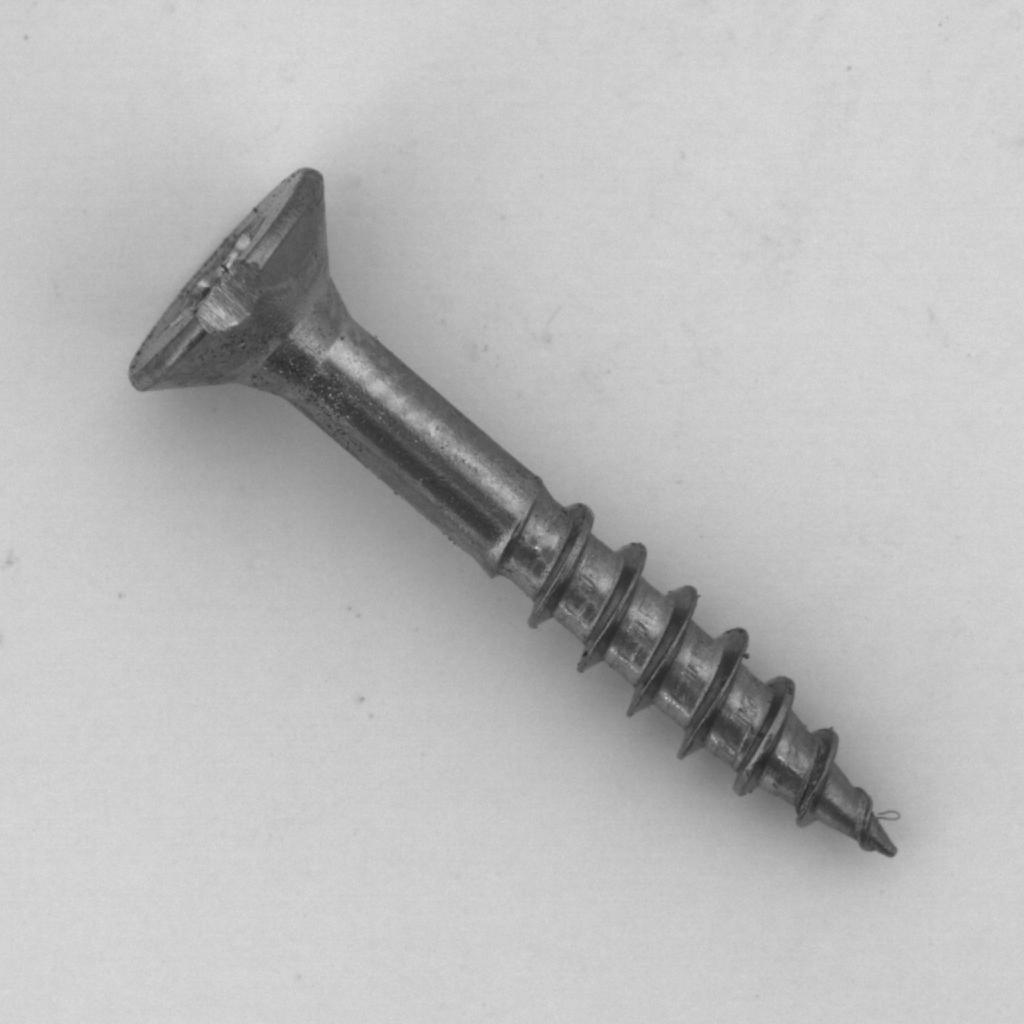bad: (117, 158, 924, 888)
